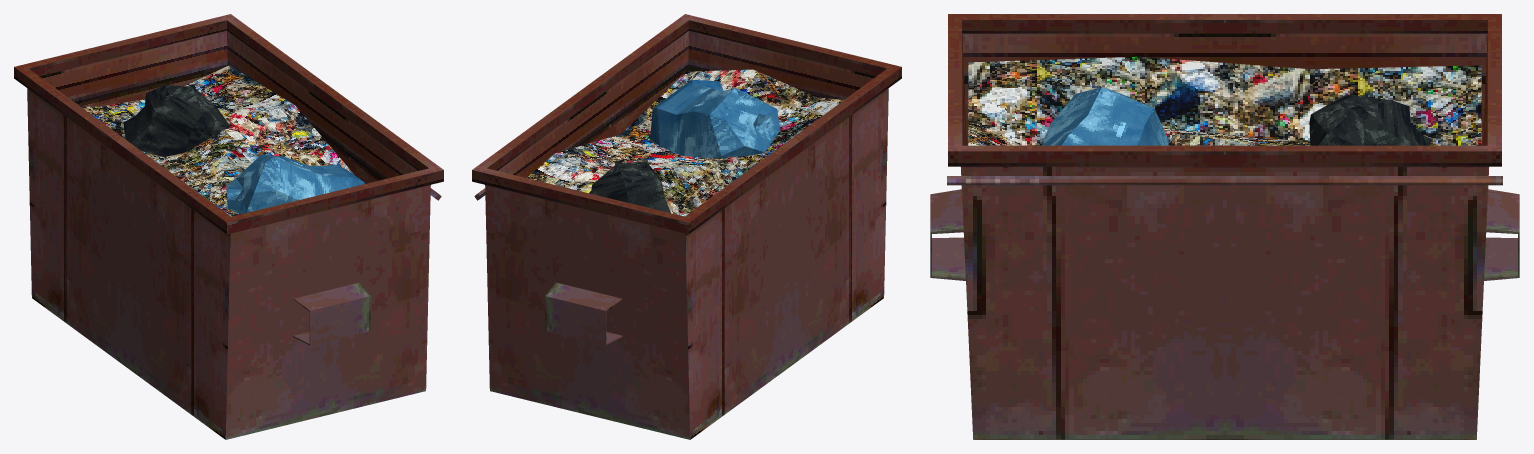
The model's file is dumpster_full_no_lid_red.glb.
3 renders of one model, left to right at view 1: azimuth 30°, elevation 25°; view 2: azimuth 150°, elevation 25°; view 3: azimuth 270°, elevation 25°, orthographic. The views are drawn at different scales.
Visible parts, largest first — view 1: dumpster_full_no_lid_red; view 2: dumpster_full_no_lid_red; view 3: dumpster_full_no_lid_red.
Boxes of the visible parts, x1,y1,x2,y2 form: dumpster_full_no_lid_red: (14, 14, 443, 439); dumpster_full_no_lid_red: (472, 14, 901, 439); dumpster_full_no_lid_red: (930, 14, 1519, 439).
Size of the model in its own units: 2.03 by 2.02 by 3.67.
3 materials, 3 textured.
